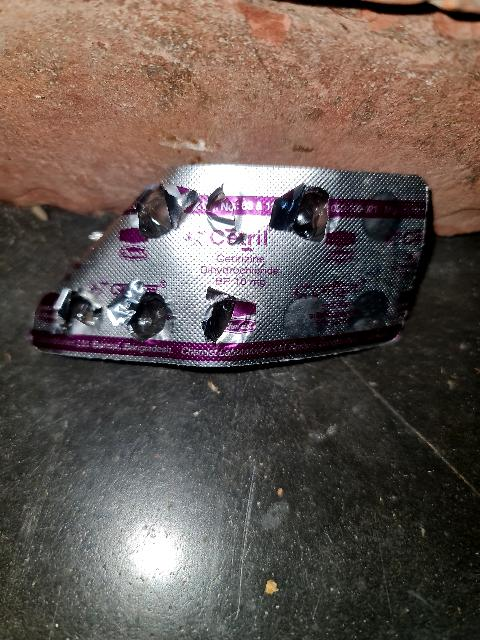medicine: (29, 158, 460, 369)
